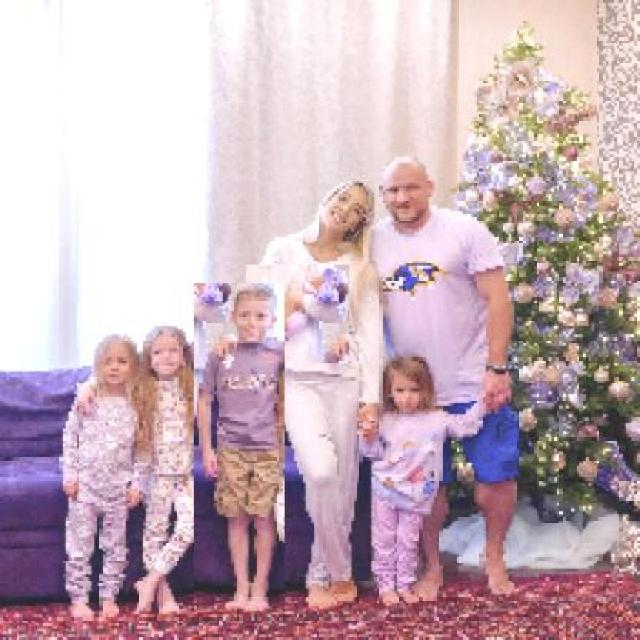child: (361, 354, 488, 606), (192, 283, 285, 614), (60, 328, 140, 623), (138, 321, 204, 613), (245, 264, 349, 364)
